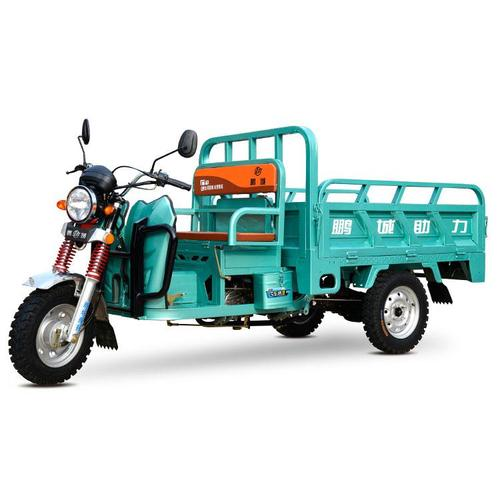tricycle: (14, 113, 487, 393)
